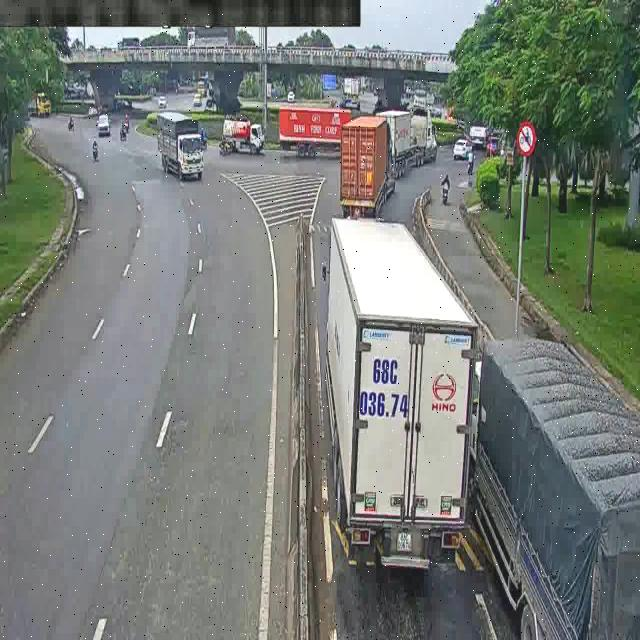car: (470, 130, 513, 214), (85, 107, 115, 134), (449, 132, 473, 161), (155, 89, 167, 109)
motorbike: (85, 138, 105, 169), (441, 171, 454, 207), (123, 113, 135, 130), (66, 115, 78, 130), (119, 123, 129, 140), (465, 159, 472, 170)
truck: (302, 211, 480, 575), (463, 330, 640, 640), (328, 115, 410, 216), (379, 99, 450, 174), (273, 107, 374, 155), (150, 111, 205, 182), (224, 110, 263, 154), (22, 91, 62, 123), (336, 71, 367, 99), (189, 77, 211, 98)
